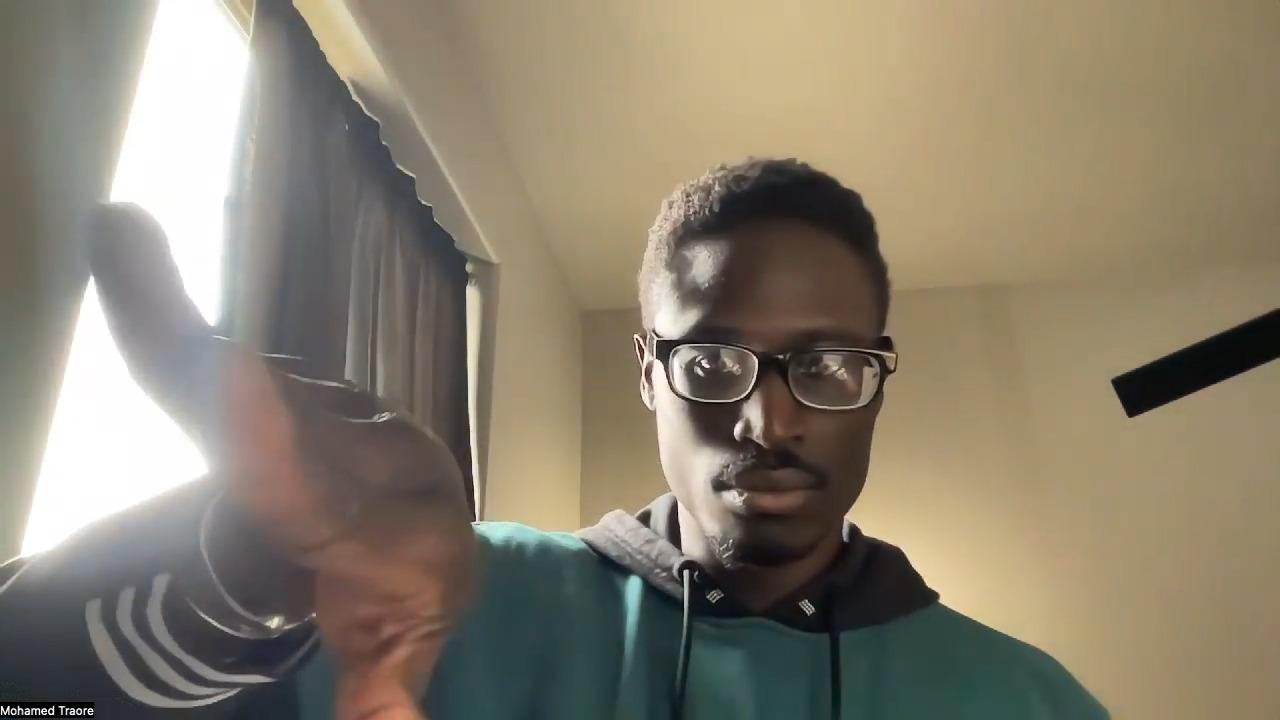Paper: (83, 202, 471, 720)
